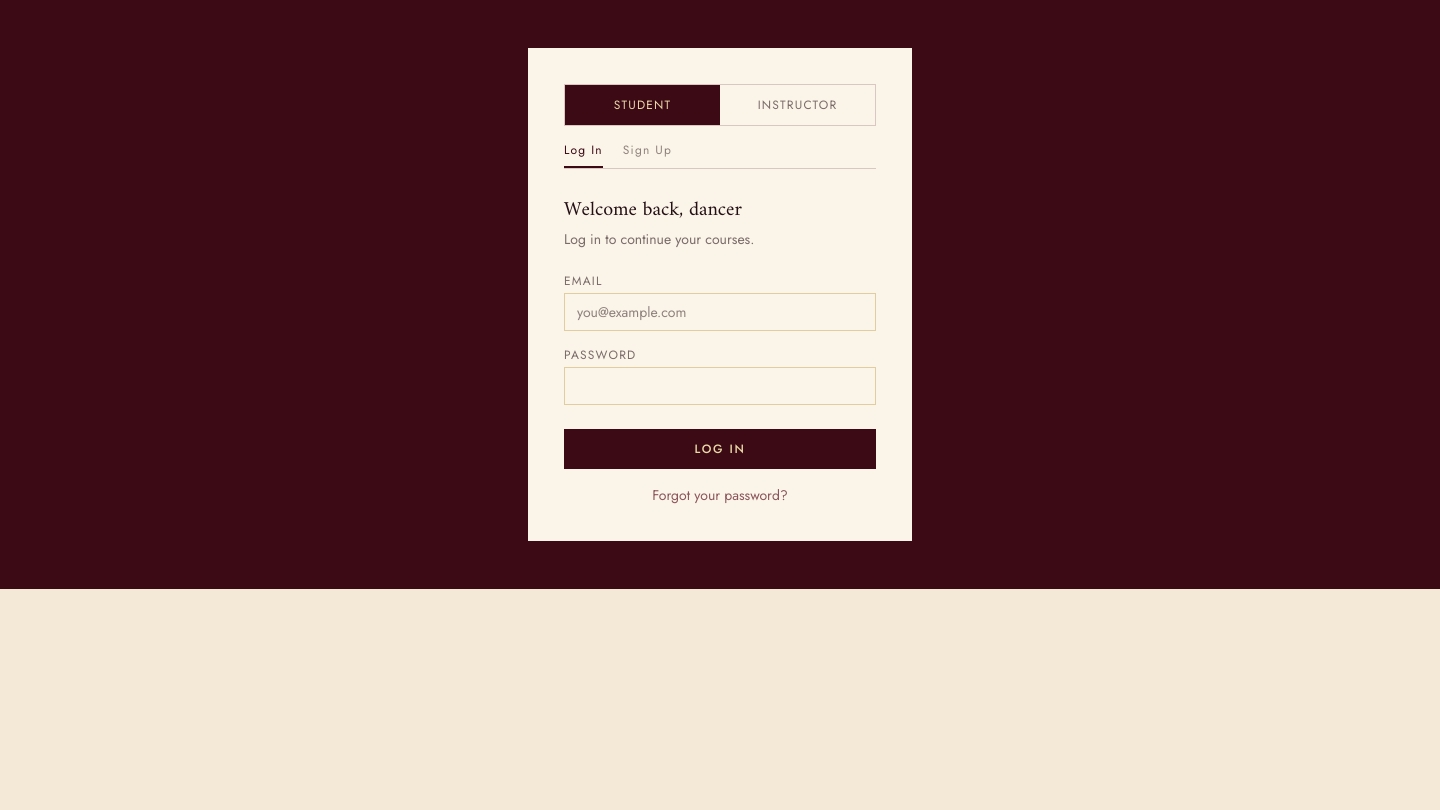
LoginPage › shows the server's message when sign-in fails
Type "nadia@example.com" into the field labelled "Email" at [720, 312], box top-left (564, 293), bottom-right (876, 331)
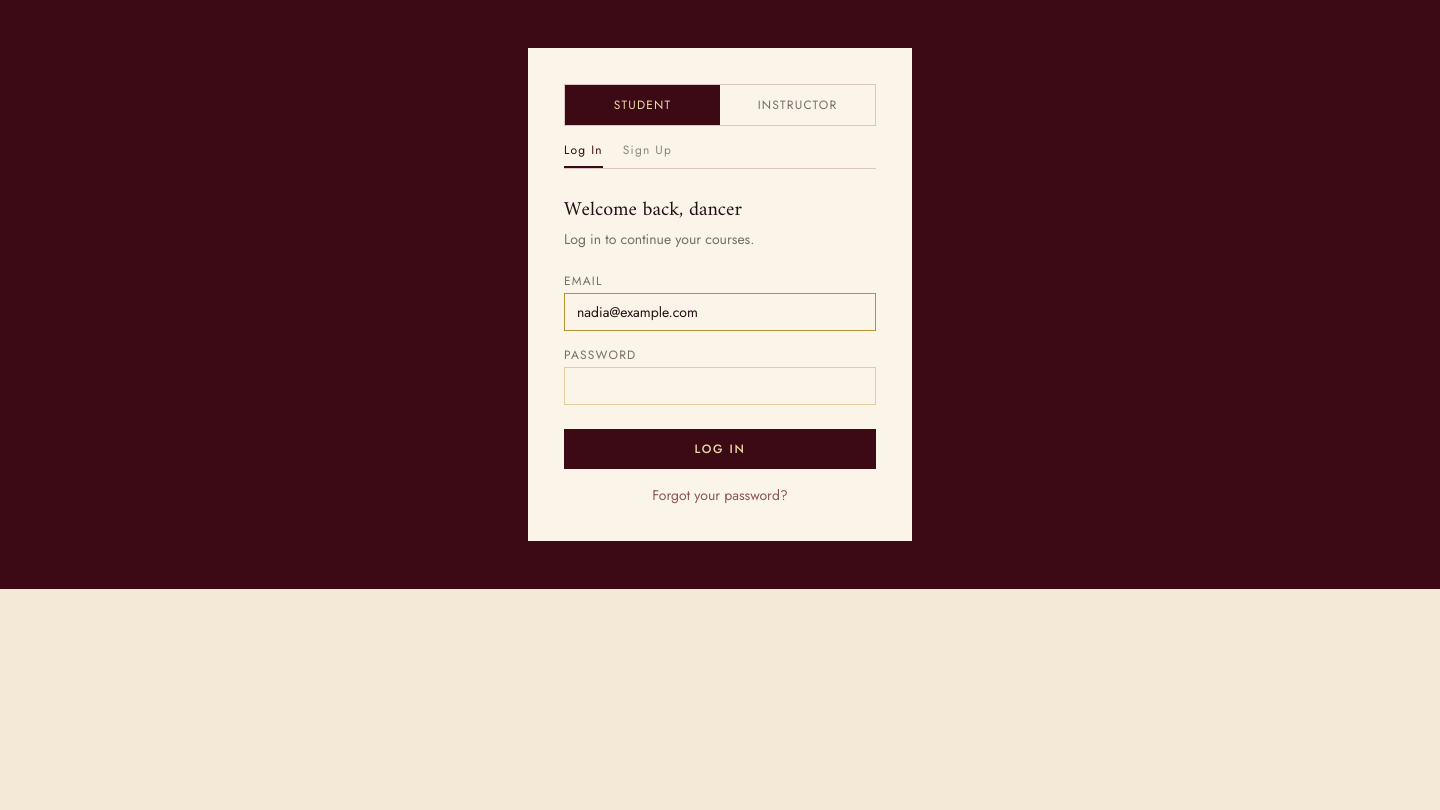
Type "wrong-password" into the password field labelled "Password" at [720, 386], box top-left (564, 367), bottom-right (876, 405)
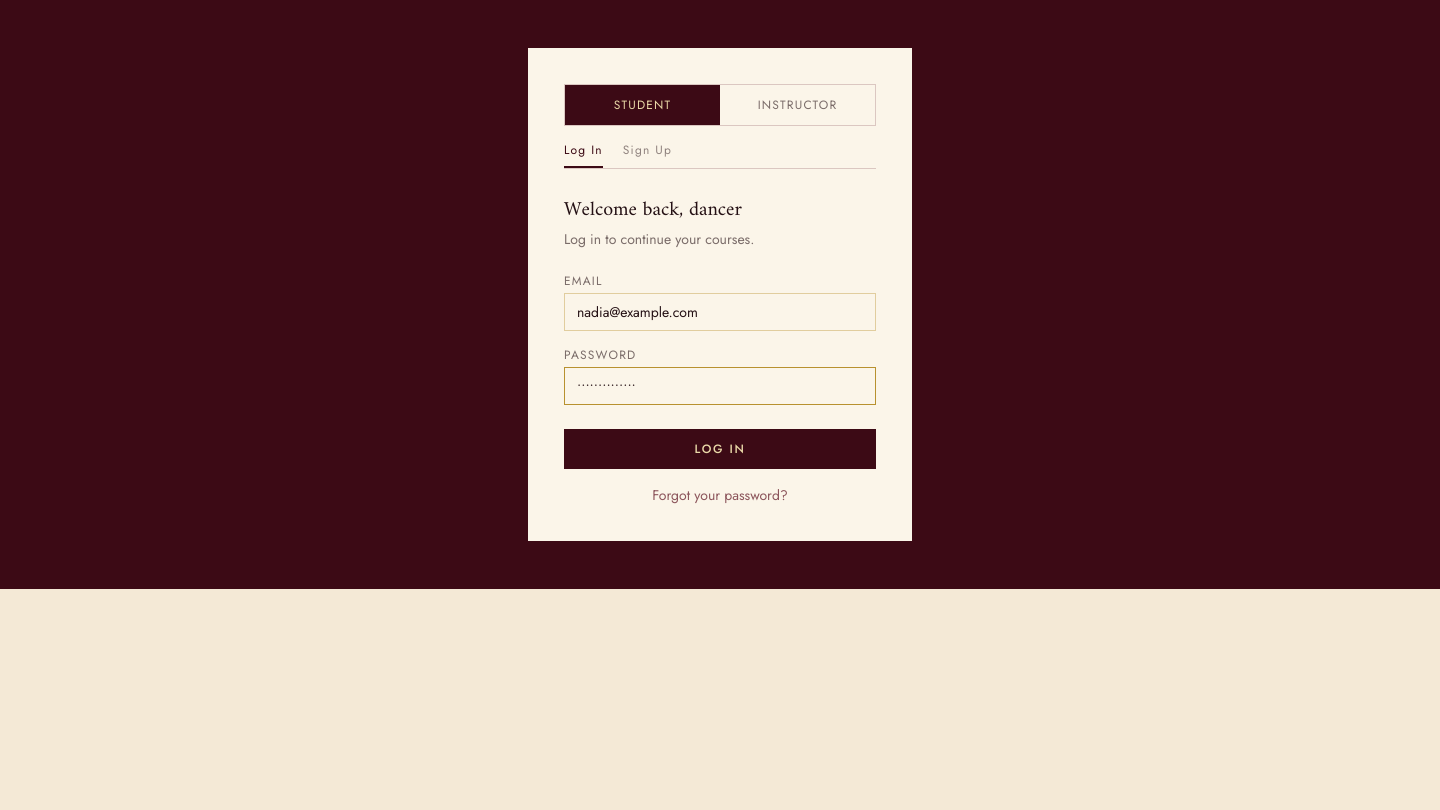
Click the button "Log In" at [720, 449], box top-left (564, 429), bottom-right (876, 469)
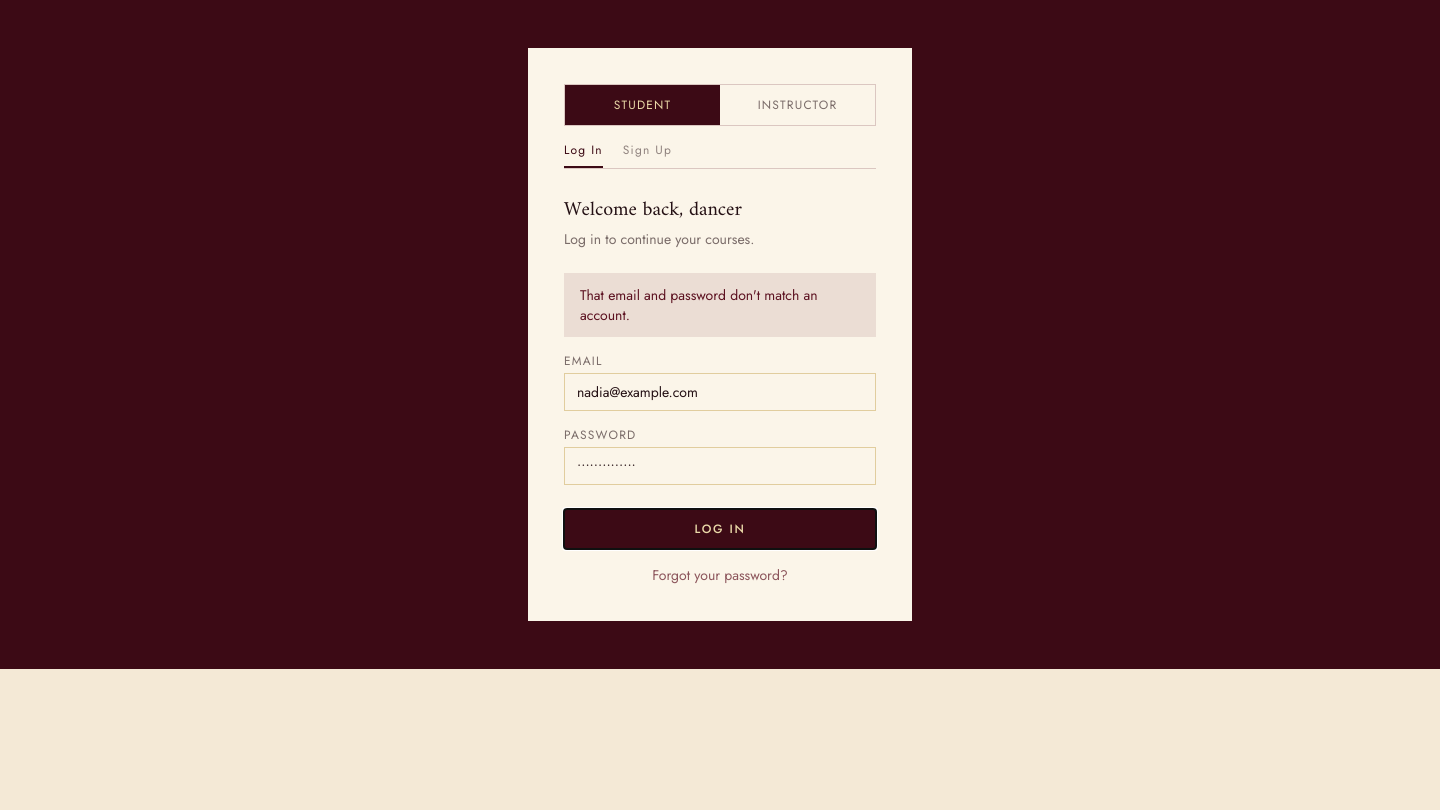
Now the message shows "don't match an account", box top-left (580, 285), bottom-right (818, 325)
